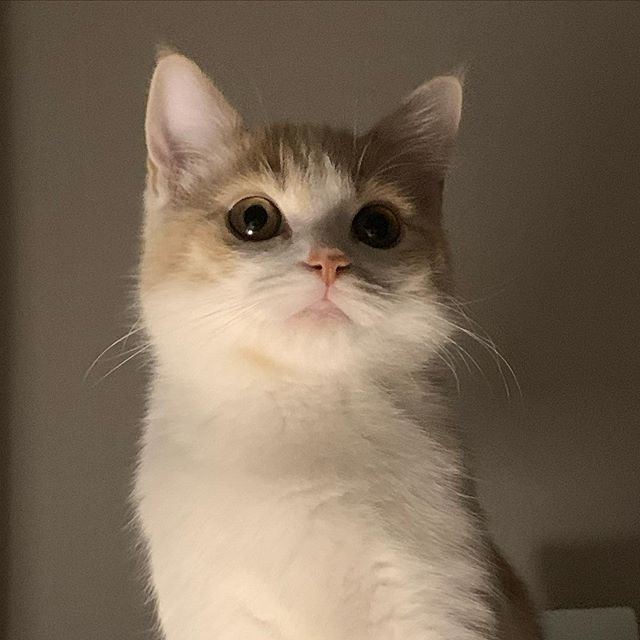cat: (125, 36, 511, 422)
